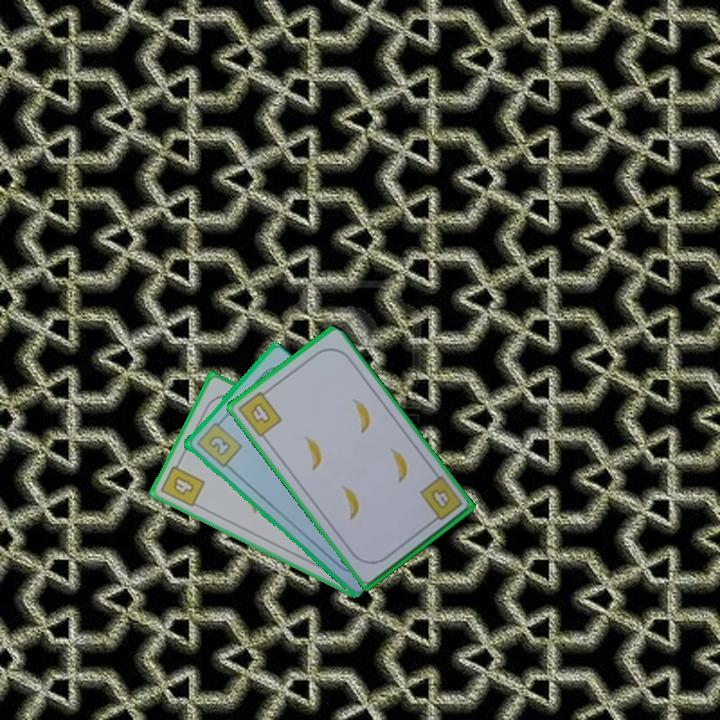2b: (192, 415, 245, 470)
4b: (234, 385, 285, 440), (157, 456, 208, 510), (416, 472, 465, 527)
